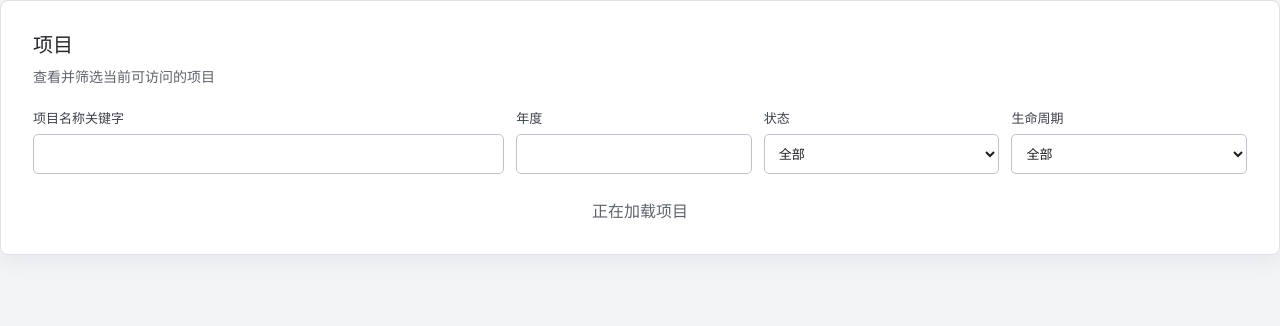
Test: ProjectListView › does not let an older request overwrite newer filters
Type "新" into the search field labelled "项目名称关键字".
click(269, 154); type("新")  # box [33,134,504,174]
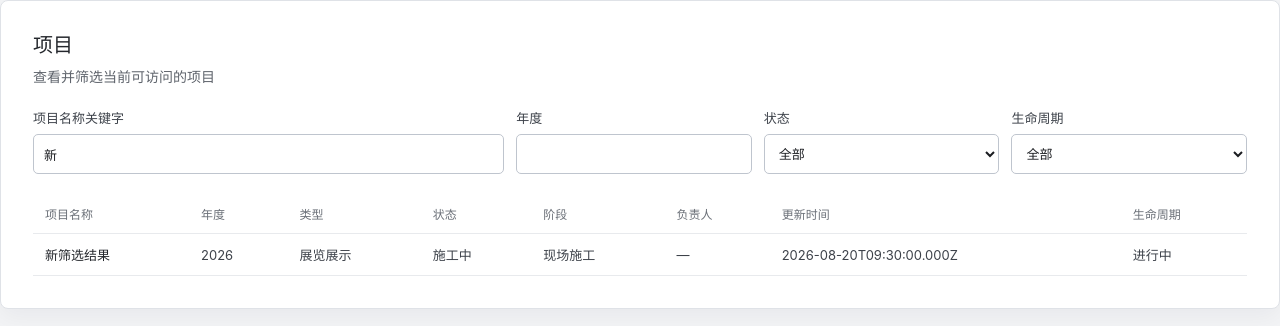
Now the button "新筛选结果" is shown, box [45,245,110,264]
